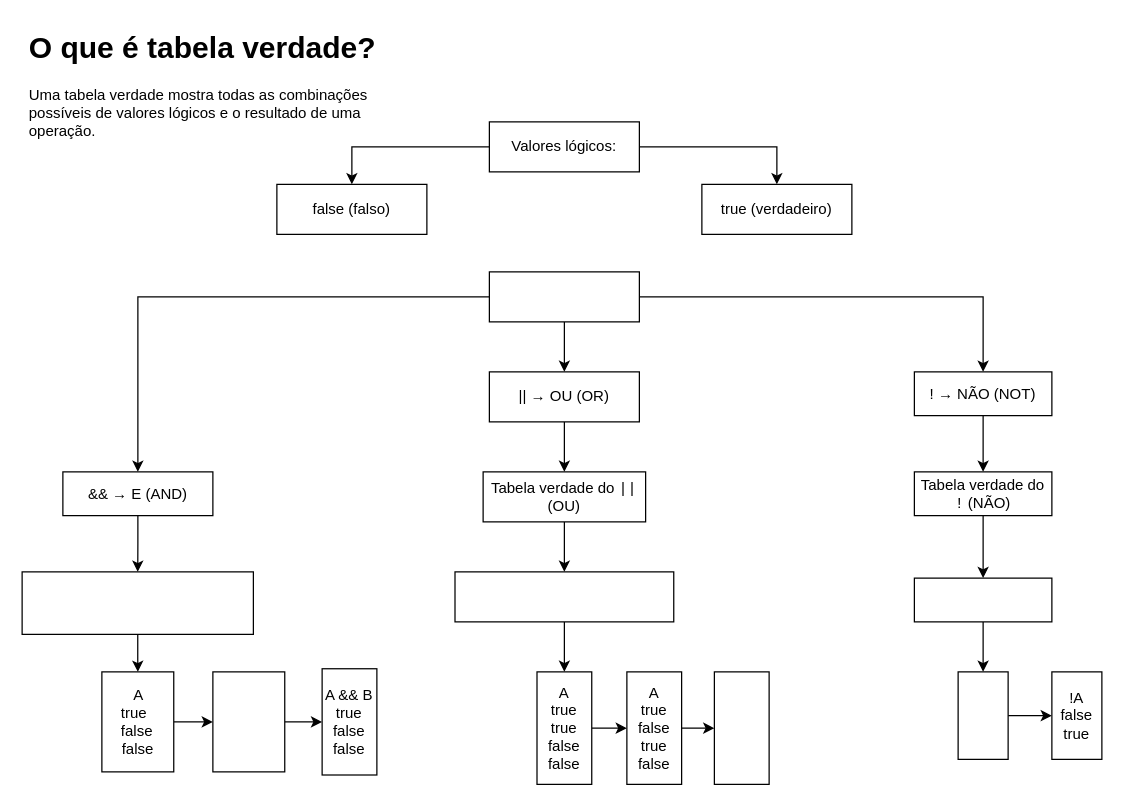
Image size: 1124x806. Some labels were removed from this diagram. Here are the shapes that lost their labels. From the top down, the centre of each, then its label:
the point at 563,296: Operadores lógicos
the point at 137,602: Tabela verdade do && (E): Só é true quando TUDO é verdadeiro
the point at 564,596: É true quando pelo menos um é verdadeiro
the point at 982,599: Inverte o valor
the point at 248,721: A true false true
the point at 741,727: A || B true true true false
the point at 982,715: A true false
